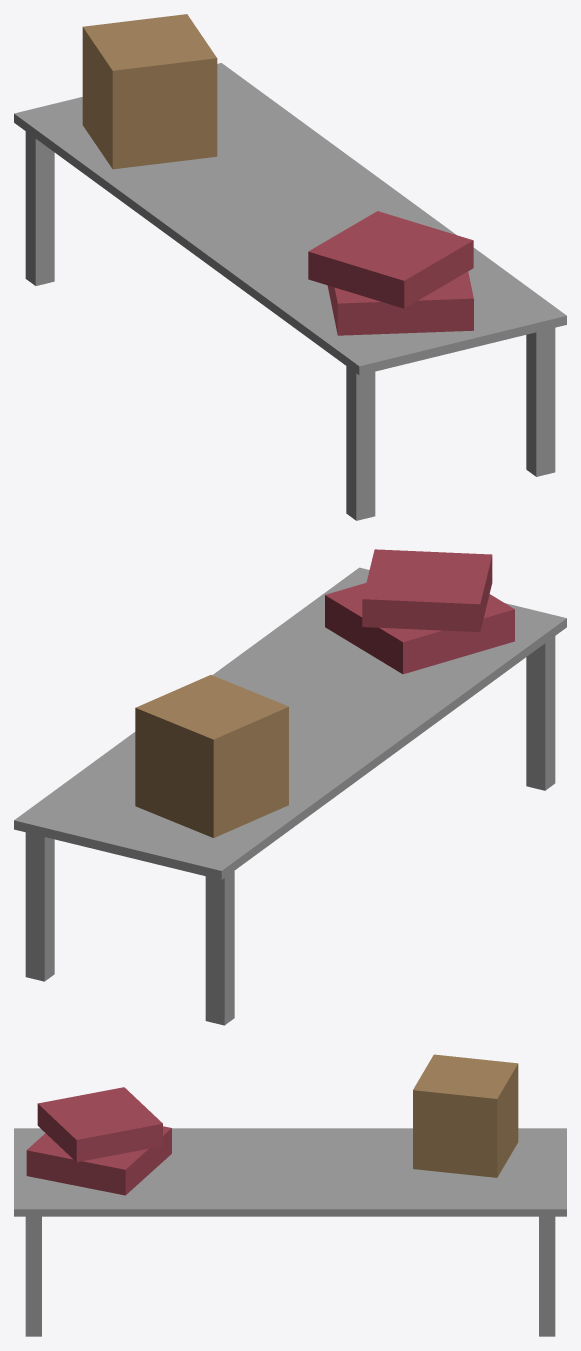
Rendered from ClutteredTable.fbx.
3 views of the same model, one above another, from view 1: azimuth 30°, elevation 25°; view 2: azimuth 150°, elevation 25°; view 3: azimuth 270°, elevation 25° (orthographic). The views are drawn at different scales.
Parts seen in each view (by area): view 1: polySurface27; view 2: polySurface27; view 3: polySurface27.
Part boxes in pixels (left/top/right/bottom): polySurface27: left=14, top=14, right=566, bottom=520; polySurface27: left=14, top=549, right=566, bottom=1025; polySurface27: left=14, top=1054, right=566, bottom=1336.
Bounding box in the file's own units: 136 × 163 × 392.
